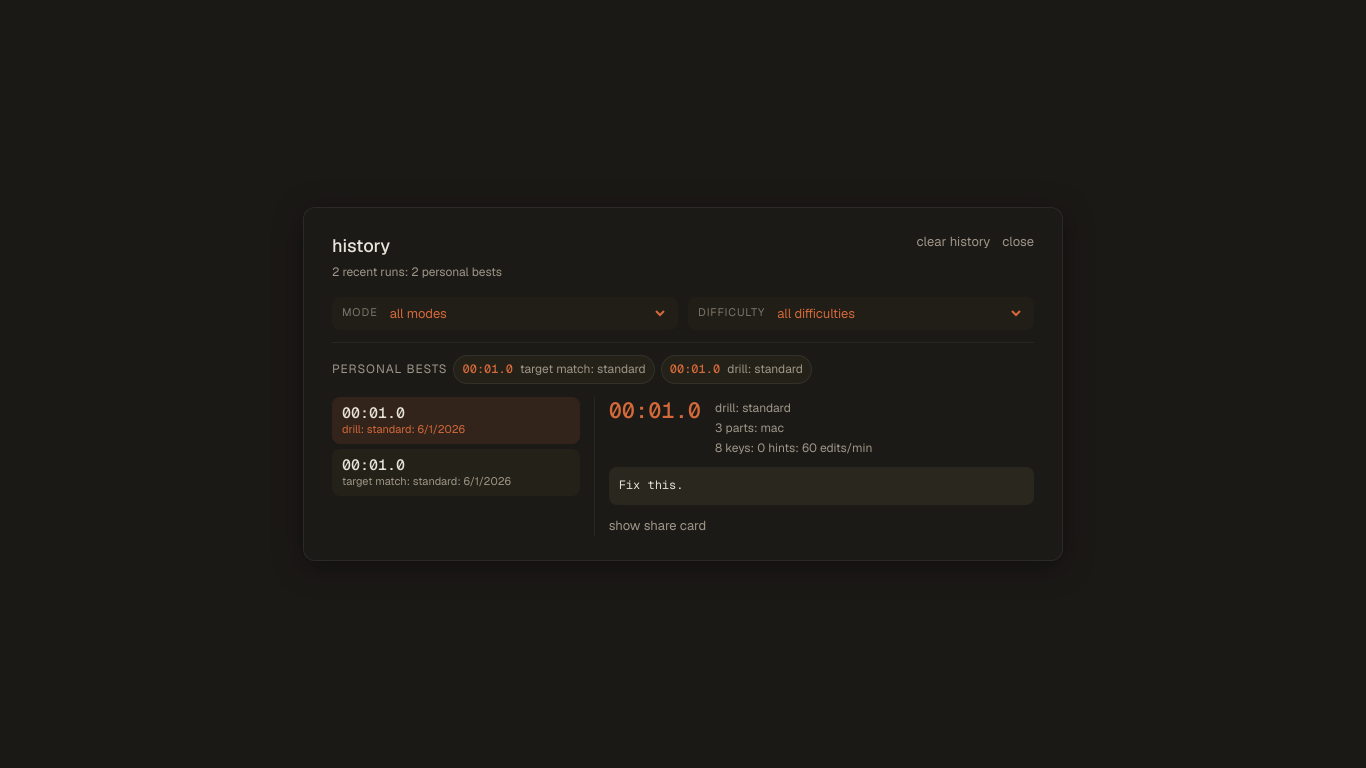
Scenario: HistoryPanel › renders local history, filters runs, and clears with in-app confirmation
expect the text "2 recent runs: 2 personal bests" is shown: met, box [332,263,502,283]
expect the element labelled "personal bests" shows "target match": met, box [454,355,655,384]
Click the button "show share card": [658, 526] box [609,516,706,536]
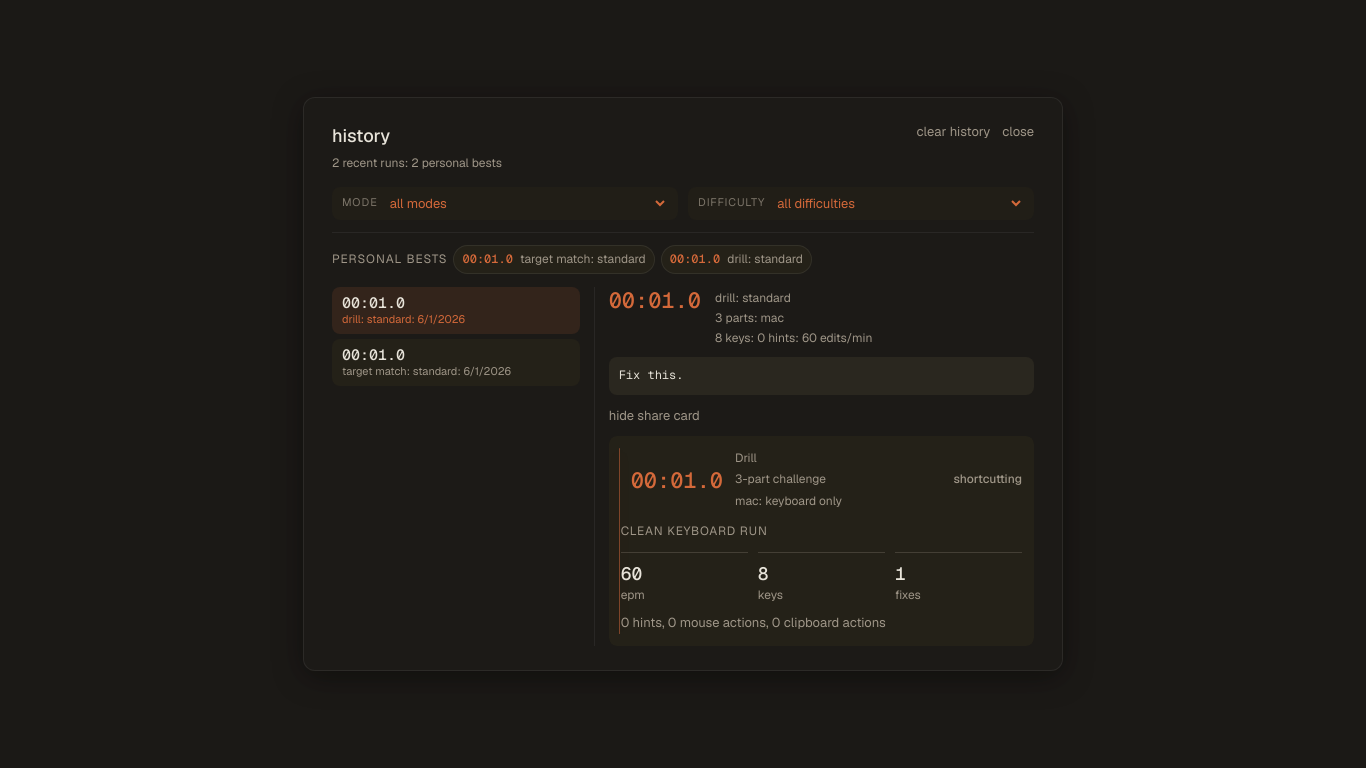
expect the text "clean keyboard run" is shown: met, box [621,523,768,539]
Select "target match" in the dropdown labelled "mode": [527, 203] box [386,194,668,213]
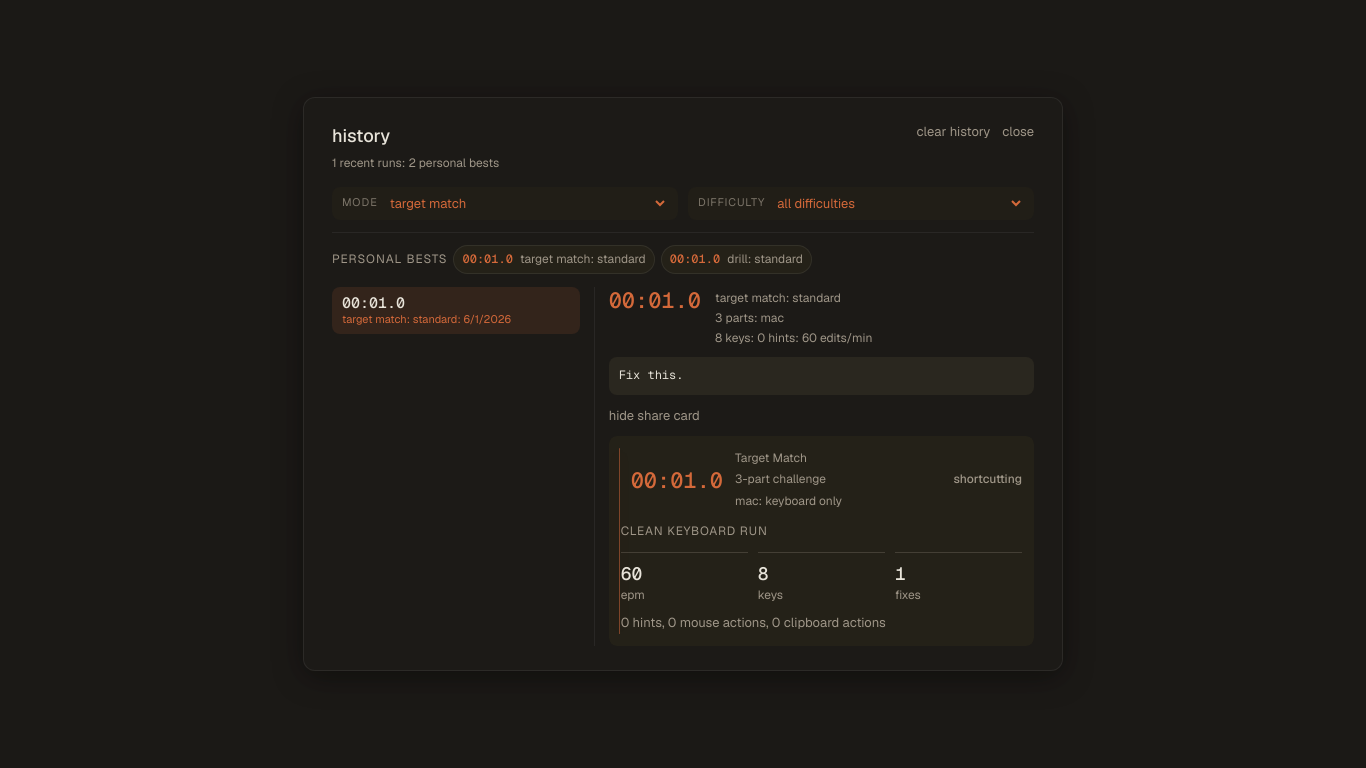
expect the text "1 recent runs: 2 personal bests" is shown: met, box [332,154,499,173]
Click the button "clear history": [954, 132] box [917,122,990,143]
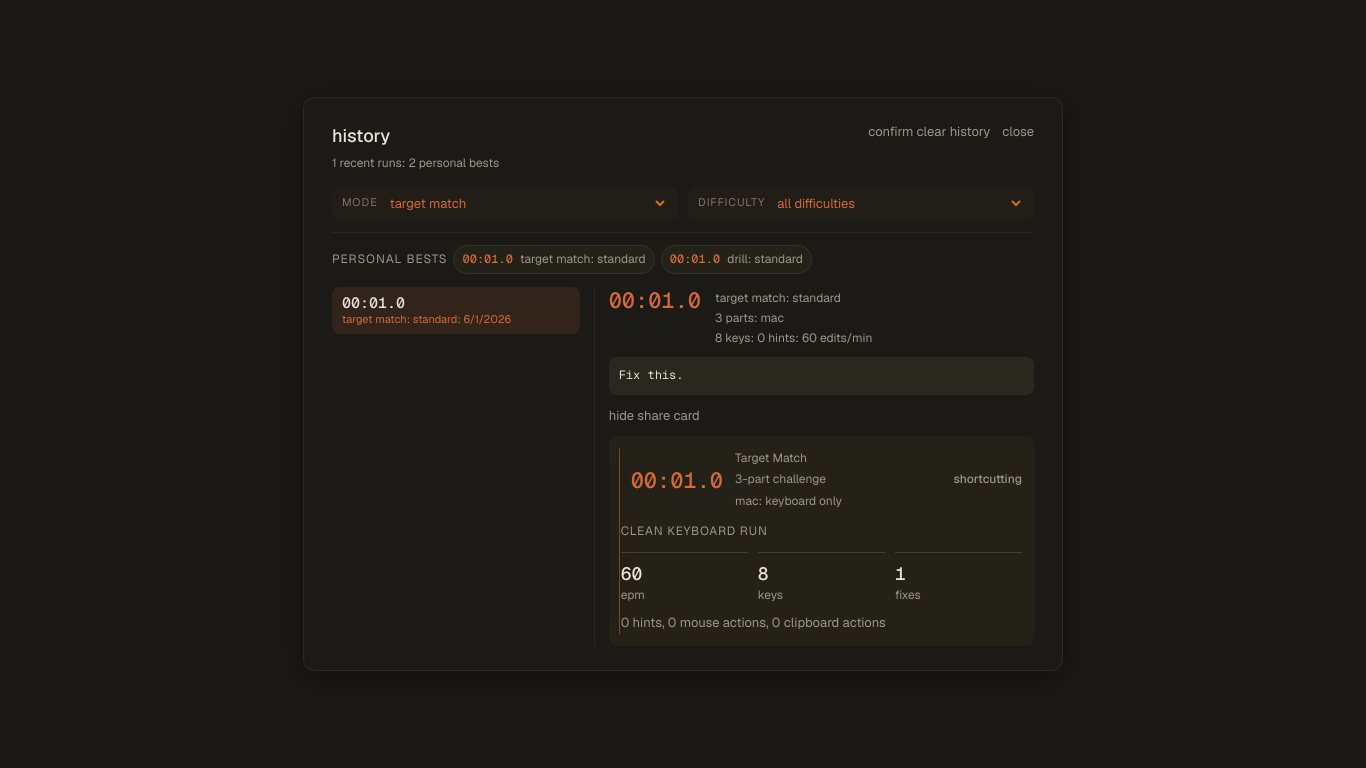
expect the button "confirm clear history" is shown: met
Click the button "confirm clear history": [929, 132] box [868,122,990,143]
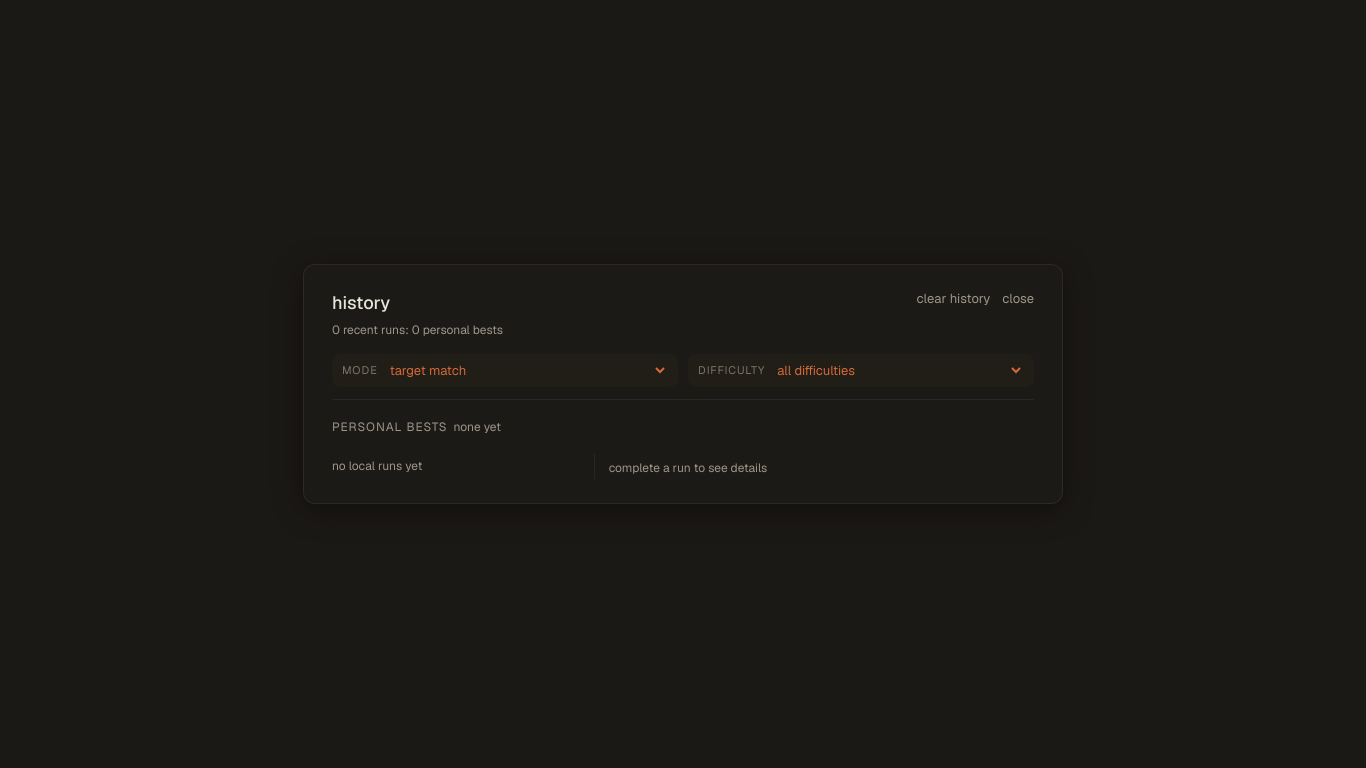
expect the text "no local runs yet" is shown: met, box [332,458,422,474]
